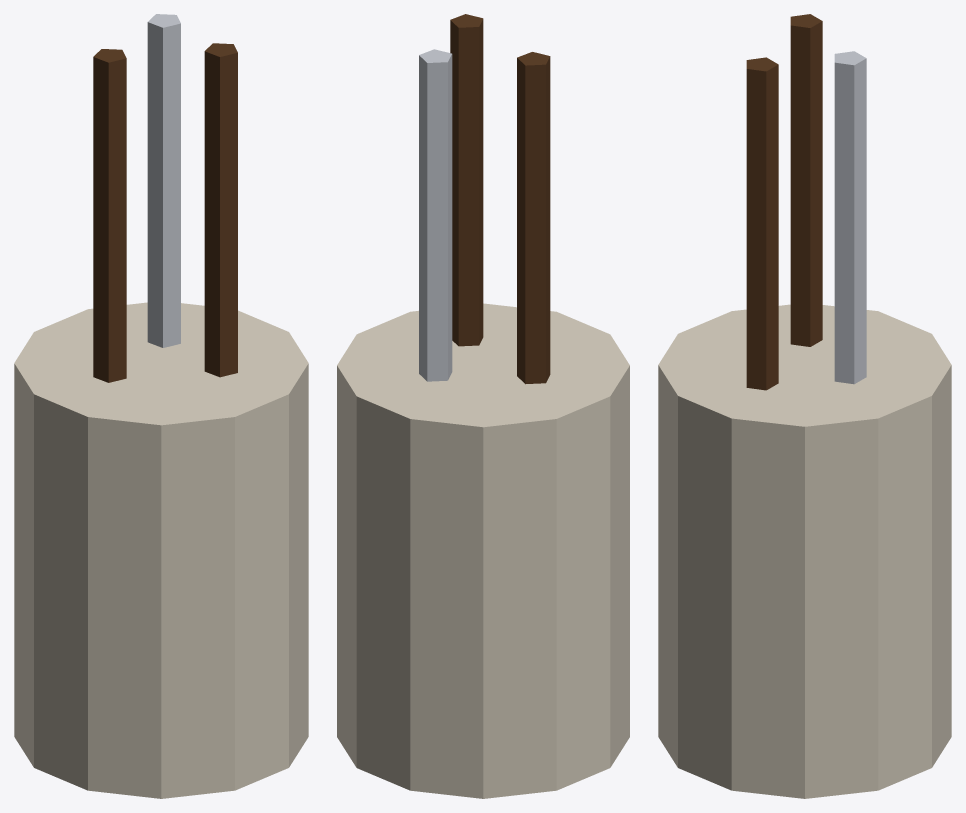
Rendered from utensil_holder.fbx.
3 renders of one model, left to right at view 1: azimuth 30°, elevation 25°; view 2: azimuth 150°, elevation 25°; view 3: azimuth 270°, elevation 25°, orthographic.
Visible parts, largest first — view 1: utensil_holder; view 2: utensil_holder; view 3: utensil_holder.
Boxes of the visible parts, <box> form: utensil_holder: <box>14,14,308,798</box>; utensil_holder: <box>337,14,629,798</box>; utensil_holder: <box>658,14,951,798</box>.
Size of the model in its own units: 0.1 by 0.26 by 0.1.
